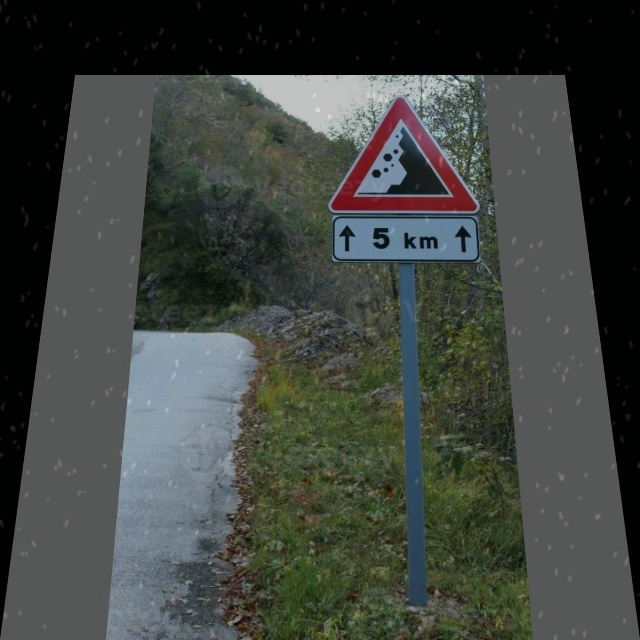Falling_Rocks: (328, 97, 478, 212)
